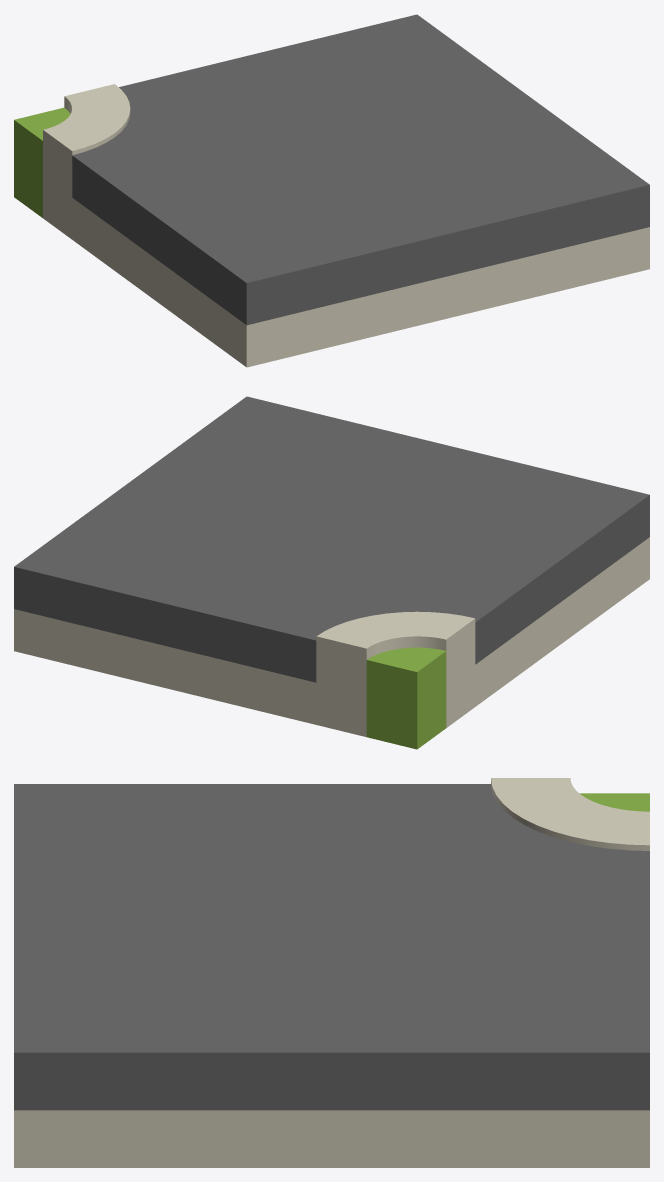
File: road-one-way-curve-sidewalk-grass-9.obj
The picture shows the model from 3 angles, top to bottom: view 1: azimuth 30°, elevation 25°; view 2: azimuth 150°, elevation 25°; view 3: azimuth 270°, elevation 25°; orthographic projection. The views are drawn at different scales.
Parts seen in each view (by area): view 1: Mesh1_Group1_Model.054; view 2: Mesh1_Group1_Model.054; view 3: Mesh1_Group1_Model.054.
Part boxes in pixels (x1,y1,x2,y2): Mesh1_Group1_Model.054: [14, 14, 649, 367]; Mesh1_Group1_Model.054: [14, 396, 649, 749]; Mesh1_Group1_Model.054: [14, 778, 649, 1167].
Bounding box in the file's own units: 3 × 0.63 × 3.
